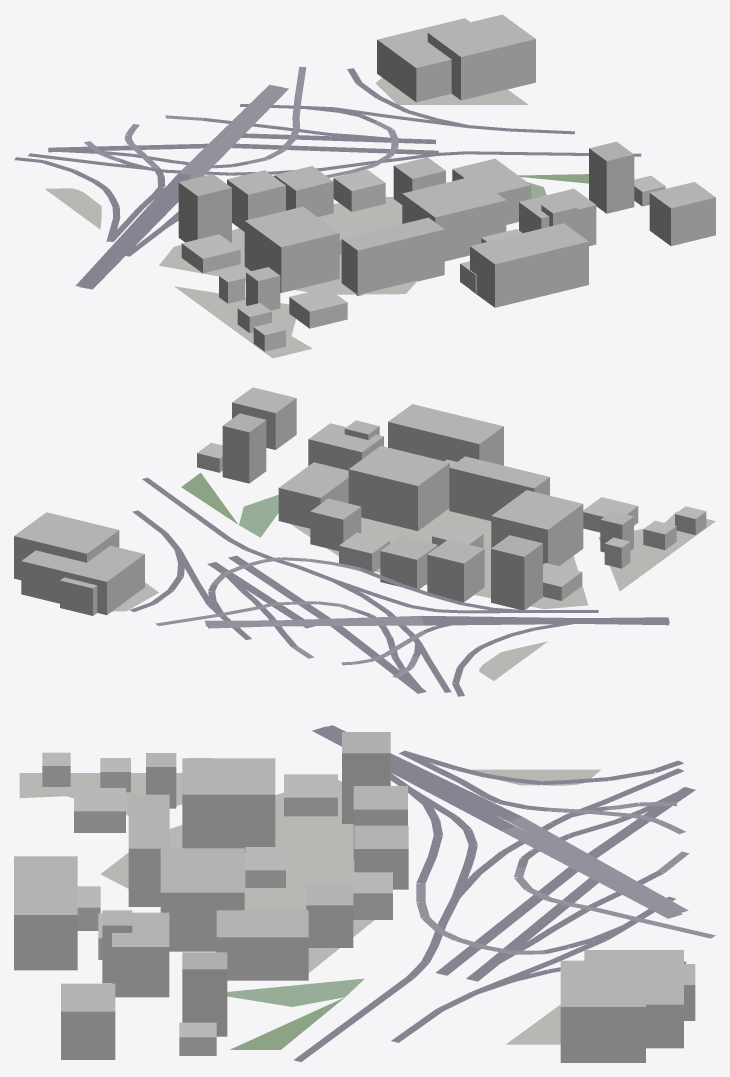
File: 131_88_mid.glb
3 views of the same model, one above another, from view 1: azimuth 30°, elevation 25°; view 2: azimuth 150°, elevation 25°; view 3: azimuth 270°, elevation 25° (orthographic). The views are drawn at different scales.
Size of the model in its own units: 620 by 62.79 by 533.
